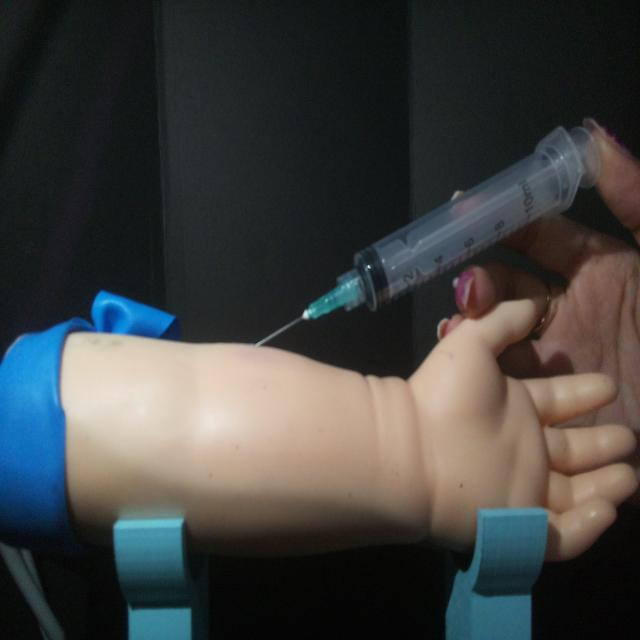28deg: (250, 117, 604, 351)
